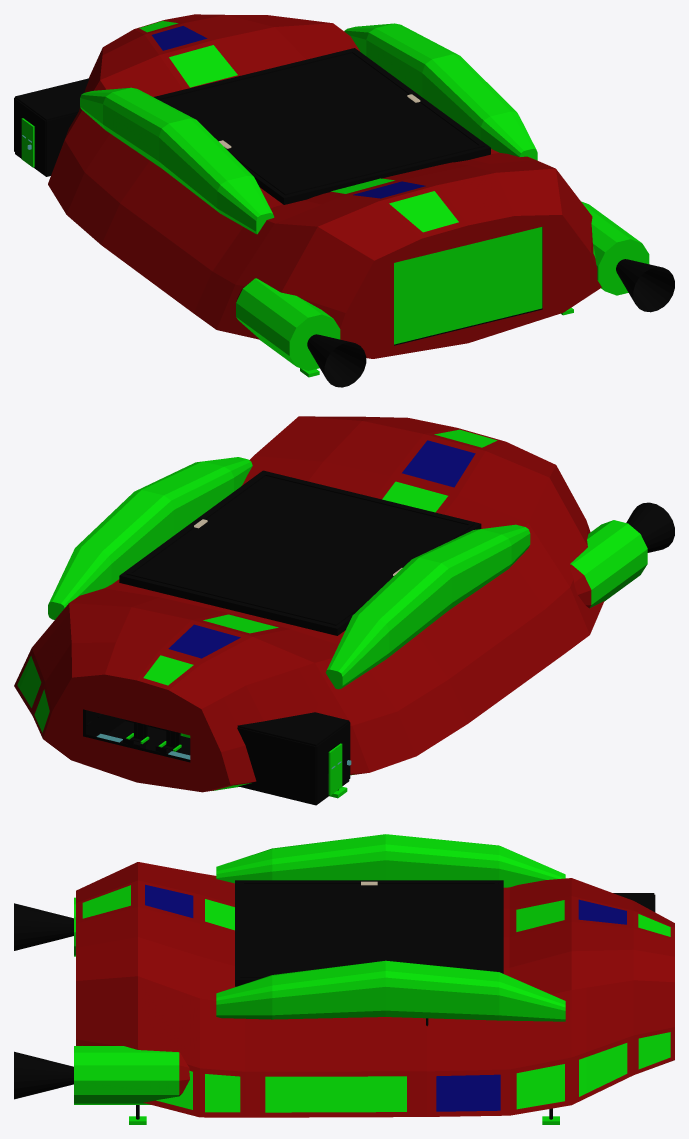
The model's file is hearth.glb.
The picture shows the model from 3 angles, top to bottom: view 1: azimuth 30°, elevation 25°; view 2: azimuth 150°, elevation 25°; view 3: azimuth 270°, elevation 25°; orthographic projection. The views are drawn at different scales.
Visible parts, largest first — view 1: expedition_hearth:lifting_body, expedition_hearth:cradle_Dorsal scout cradle, expedition_hearth:ramp_ramp, expedition_hearth:sculpted_side_shoulder_-1, expedition_hearth:sculpted_side_shoulder_1, expedition_hearth:service_panels_0, expedition_hearth:drive_housing_-1, expedition_hearth:drive_housing_1, expedition_hearth:room_bridge-eva, expedition_hearth:engine_0, expedition_hearth:engine_1, expedition_hearth:ceiling_bridge-eva; view 2: expedition_hearth:lifting_body, expedition_hearth:cradle_Dorsal scout cradle, expedition_hearth:sculpted_side_shoulder_-1, expedition_hearth:sculpted_side_shoulder_1, expedition_hearth:service_panels_0, expedition_hearth:room_bridge-eva, expedition_hearth:drive_housing_-1, expedition_hearth:ceiling_bridge-eva, expedition_hearth:room_bridge, expedition_hearth:engine_0; view 3: expedition_hearth:lifting_body, expedition_hearth:cradle_Dorsal scout cradle, expedition_hearth:service_panels_0, expedition_hearth:sculpted_side_shoulder_1, expedition_hearth:sculpted_side_shoulder_-1, expedition_hearth:drive_housing_1, expedition_hearth:engine_0, expedition_hearth:engine_1.
Part boxes in pixels (bbox=[...]): expedition_hearth:lifting_body: bbox=[48, 14, 601, 358]; expedition_hearth:cradle_Dorsal scout cradle: bbox=[153, 48, 490, 204]; expedition_hearth:ramp_ramp: bbox=[394, 227, 542, 344]; expedition_hearth:sculpted_side_shoulder_-1: bbox=[80, 87, 274, 234]; expedition_hearth:sculpted_side_shoulder_1: bbox=[344, 23, 537, 160]; expedition_hearth:service_panels_0: bbox=[139, 21, 595, 257]; expedition_hearth:drive_housing_-1: bbox=[236, 278, 340, 370]; expedition_hearth:drive_housing_1: bbox=[581, 201, 649, 295]; expedition_hearth:room_bridge-eva: bbox=[14, 97, 77, 176]; expedition_hearth:engine_0: bbox=[307, 334, 366, 387]; expedition_hearth:engine_1: bbox=[616, 259, 674, 312]; expedition_hearth:ceiling_bridge-eva: bbox=[15, 78, 89, 120]; expedition_hearth:lifting_body: bbox=[14, 416, 604, 792]; expedition_hearth:cradle_Dorsal scout cradle: bbox=[119, 470, 481, 635]; expedition_hearth:sculpted_side_shoulder_-1: bbox=[325, 524, 530, 689]; expedition_hearth:sculpted_side_shoulder_1: bbox=[48, 457, 252, 619]; expedition_hearth:service_panels_0: bbox=[17, 429, 497, 790]; expedition_hearth:room_bridge-eva: bbox=[237, 721, 350, 805]; expedition_hearth:drive_housing_-1: bbox=[570, 520, 647, 608]; expedition_hearth:ceiling_bridge-eva: bbox=[237, 712, 349, 746]; expedition_hearth:room_bridge: bbox=[83, 709, 190, 762]; expedition_hearth:engine_0: bbox=[626, 502, 674, 552]; expedition_hearth:lifting_body: bbox=[76, 862, 674, 1117]; expedition_hearth:cradle_Dorsal scout cradle: bbox=[235, 880, 503, 986]; expedition_hearth:service_panels_0: bbox=[82, 884, 670, 1112]; expedition_hearth:sculpted_side_shoulder_1: bbox=[216, 960, 565, 1021]; expedition_hearth:sculpted_side_shoulder_-1: bbox=[216, 834, 565, 887]; expedition_hearth:drive_housing_1: bbox=[74, 1046, 189, 1104]; expedition_hearth:engine_0: bbox=[14, 903, 73, 950]; expedition_hearth:engine_1: bbox=[14, 1051, 73, 1099].
Size of the model in its own units: 20.8 by 8.47 by 32.
